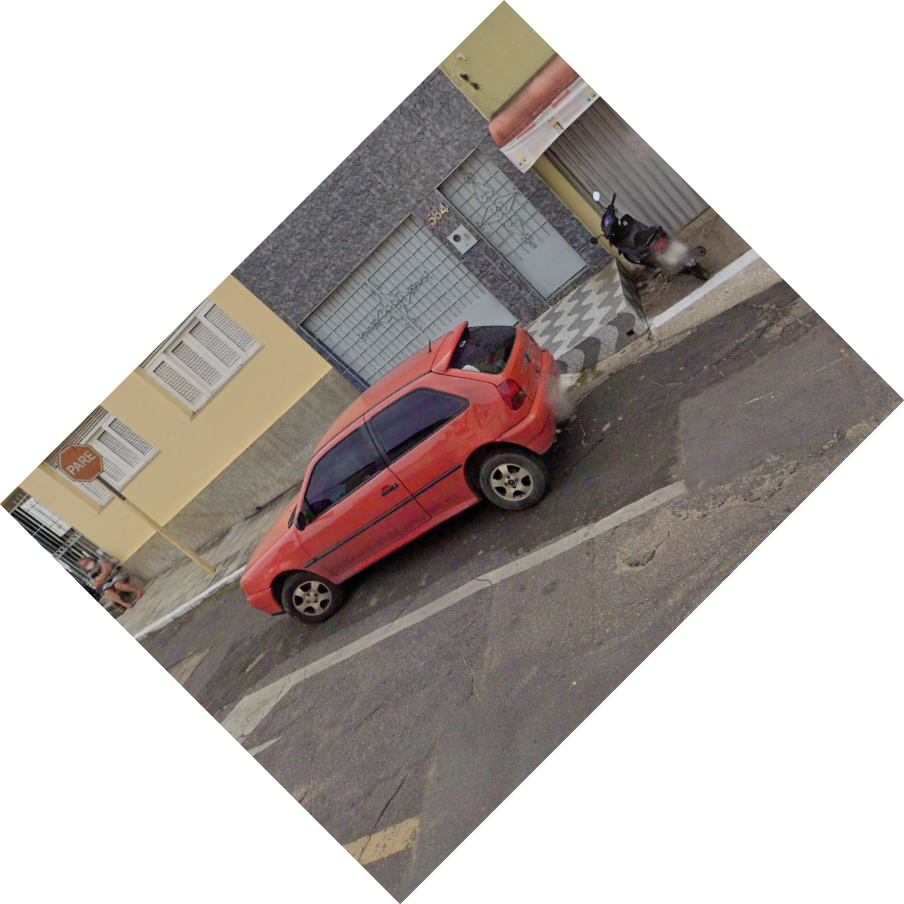car: (238, 316, 583, 648)
